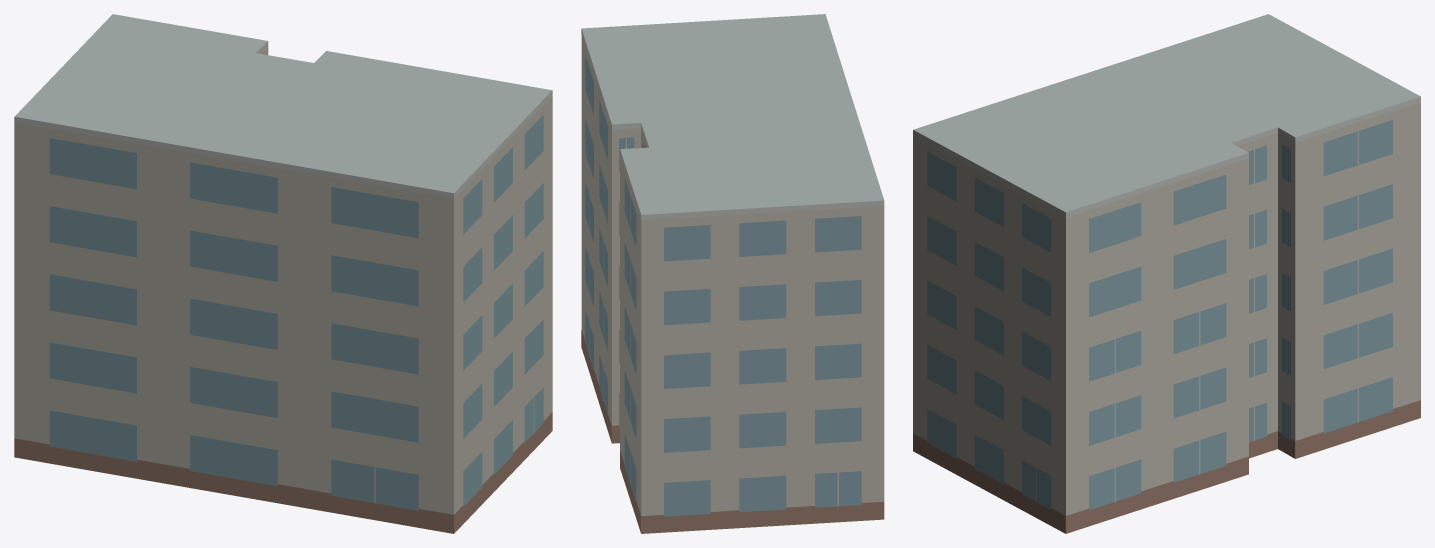
File: survey-upis-32681267.glb
3 renders of one model, left to right at view 1: azimuth 30°, elevation 25°; view 2: azimuth 150°, elevation 25°; view 3: azimuth 270°, elevation 25°, orthographic. The views are drawn at different scales.
Visible parts, largest first — view 1: survey-upis-32681267.tmp; view 2: survey-upis-32681267.tmp; view 3: survey-upis-32681267.tmp.
Boxes of the visible parts, x1,y1,x2,y2 form: survey-upis-32681267.tmp: (14,14,552,533); survey-upis-32681267.tmp: (581,14,884,533); survey-upis-32681267.tmp: (913,14,1420,533).
Size of the model in its own units: 19.2 by 14.5 by 20.76.
